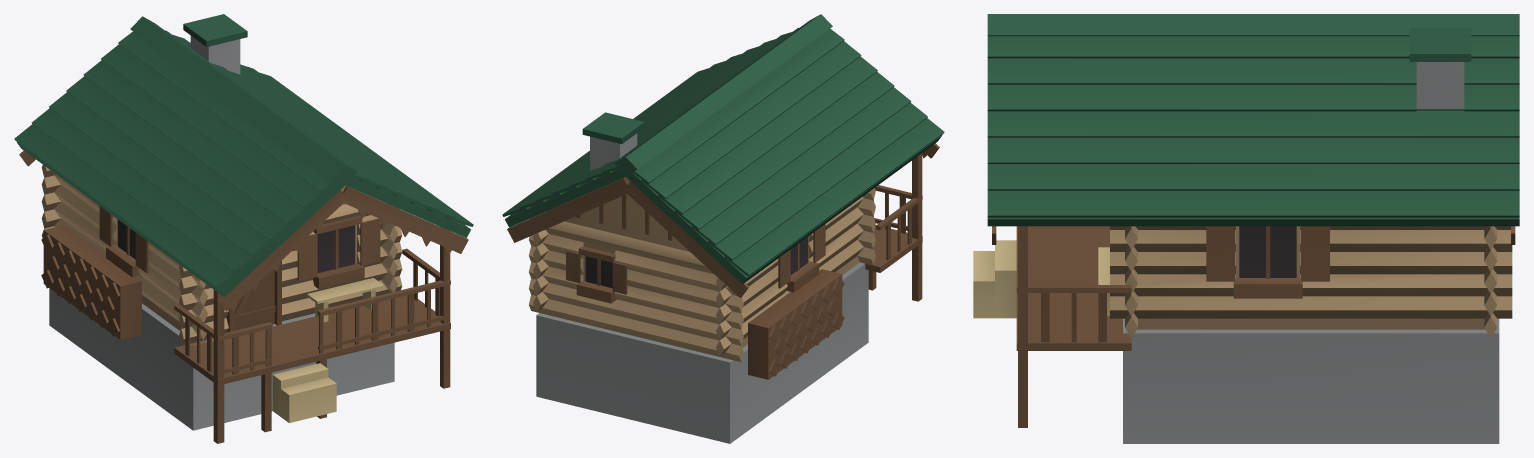
The model's file is cabin_1.glb.
The picture shows the model from 3 angles, left to right: view 1: azimuth 30°, elevation 25°; view 2: azimuth 150°, elevation 25°; view 3: azimuth 270°, elevation 25°; orthographic projection. The views are drawn at different scales.
Parts seen in each view (by area): view 1: cabin_1; view 2: cabin_1; view 3: cabin_1.
Boxes of the visible parts, box(x1,y1,x2,y2) form: cabin_1: box(14, 14, 473, 443); cabin_1: box(502, 14, 944, 443); cabin_1: box(973, 14, 1519, 443).
Size of the model in its own units: 5.4 by 5.62 by 7.6.
